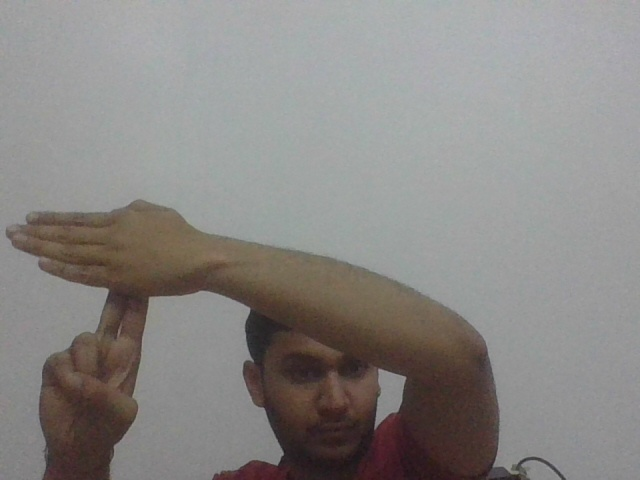N: (4, 198, 196, 343)
